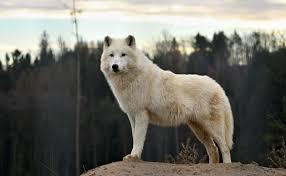Non_Gorille: (94, 19, 256, 162)
